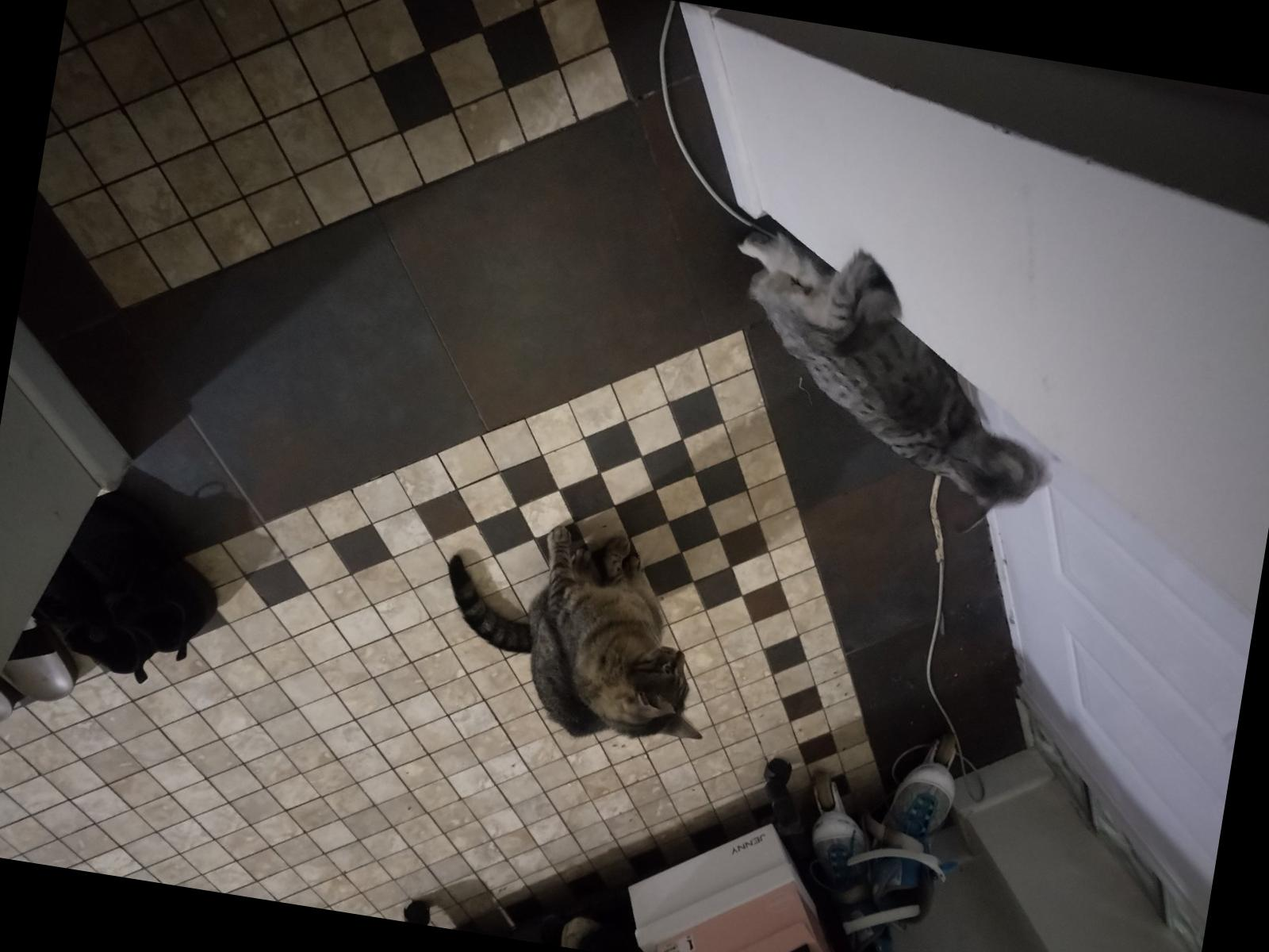macka: (690, 218, 1085, 551), (424, 505, 734, 759)
